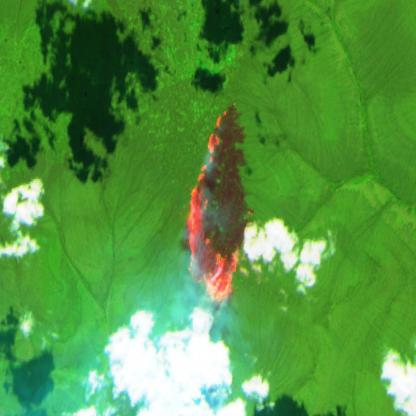fire: (184, 93, 256, 309)
